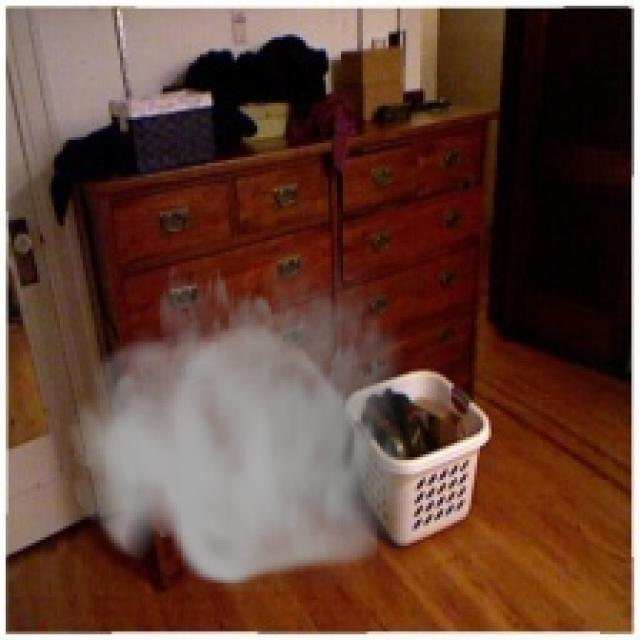Smoke: (68, 232, 426, 592)
